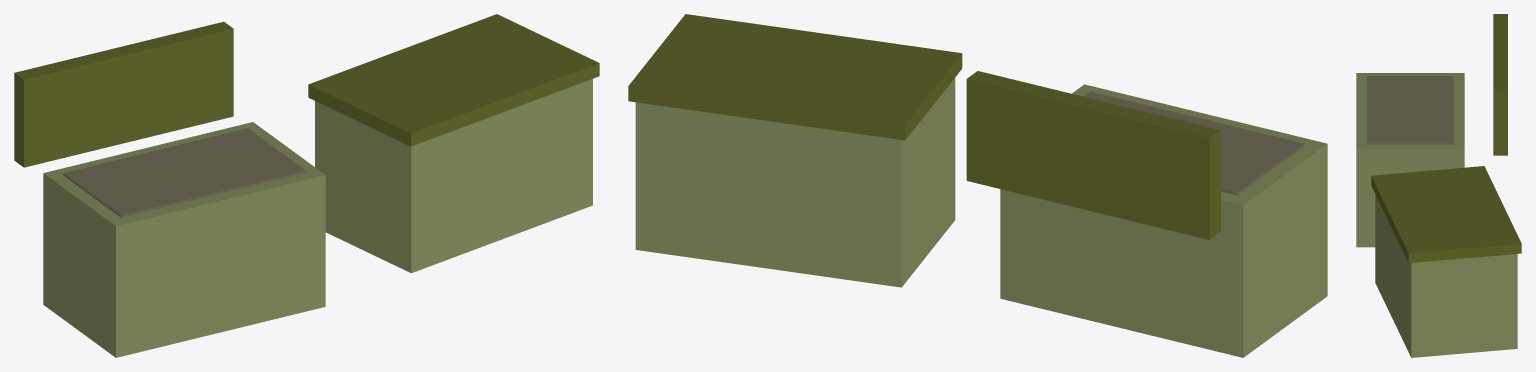
Rendered from SM_CajasMunicion_v1_Abierta_LOD1.fbx.
3 renders of one model, left to right at view 1: azimuth 30°, elevation 25°; view 2: azimuth 150°, elevation 25°; view 3: azimuth 270°, elevation 25°, orthographic. The views are drawn at different scales.
Parts seen in each view (by area): view 1: SM_farp_betera_v21_LOD1; view 2: SM_farp_betera_v21_LOD1; view 3: SM_farp_betera_v21_LOD1.
Part boxes in pixels (<box>): SM_farp_betera_v21_LOD1: <box>14,14,599,357</box>; SM_farp_betera_v21_LOD1: <box>628,14,1327,357</box>; SM_farp_betera_v21_LOD1: <box>1356,14,1521,357</box>.
Bounding box in the file's own units: 1.24 × 0.48 × 0.4585.
